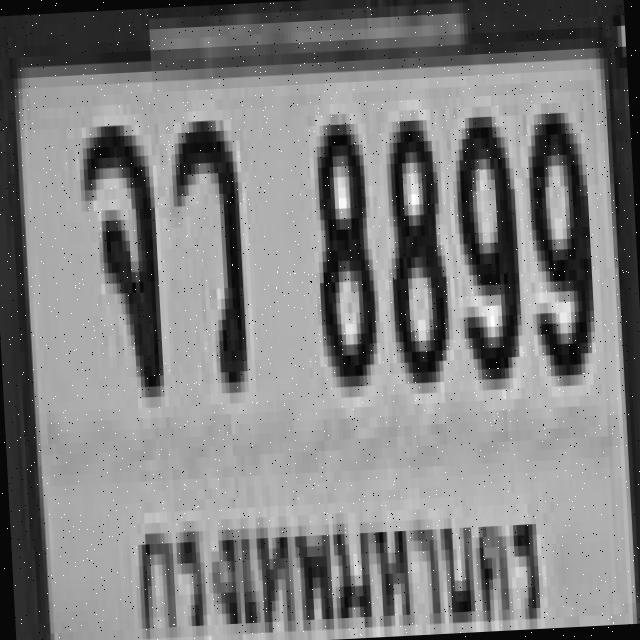17ChorChan: (77, 114, 160, 390)
46WorWaen: (166, 110, 244, 386)
8: (380, 109, 447, 374), (308, 113, 374, 378)
9: (522, 101, 594, 378), (449, 106, 520, 370)
Bangkok: (120, 481, 553, 640)
